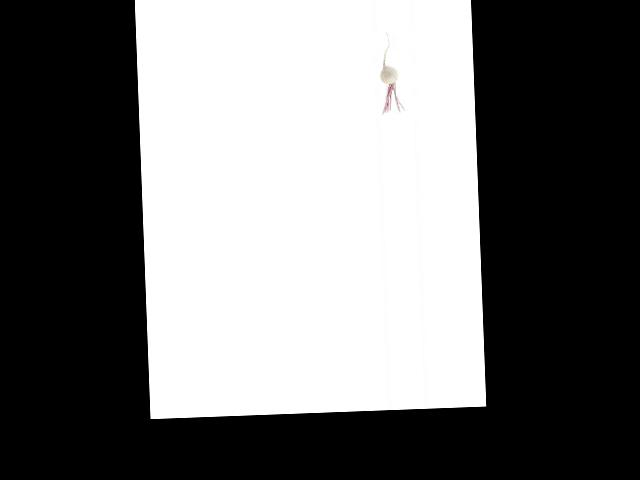beet: (378, 31, 403, 114)
